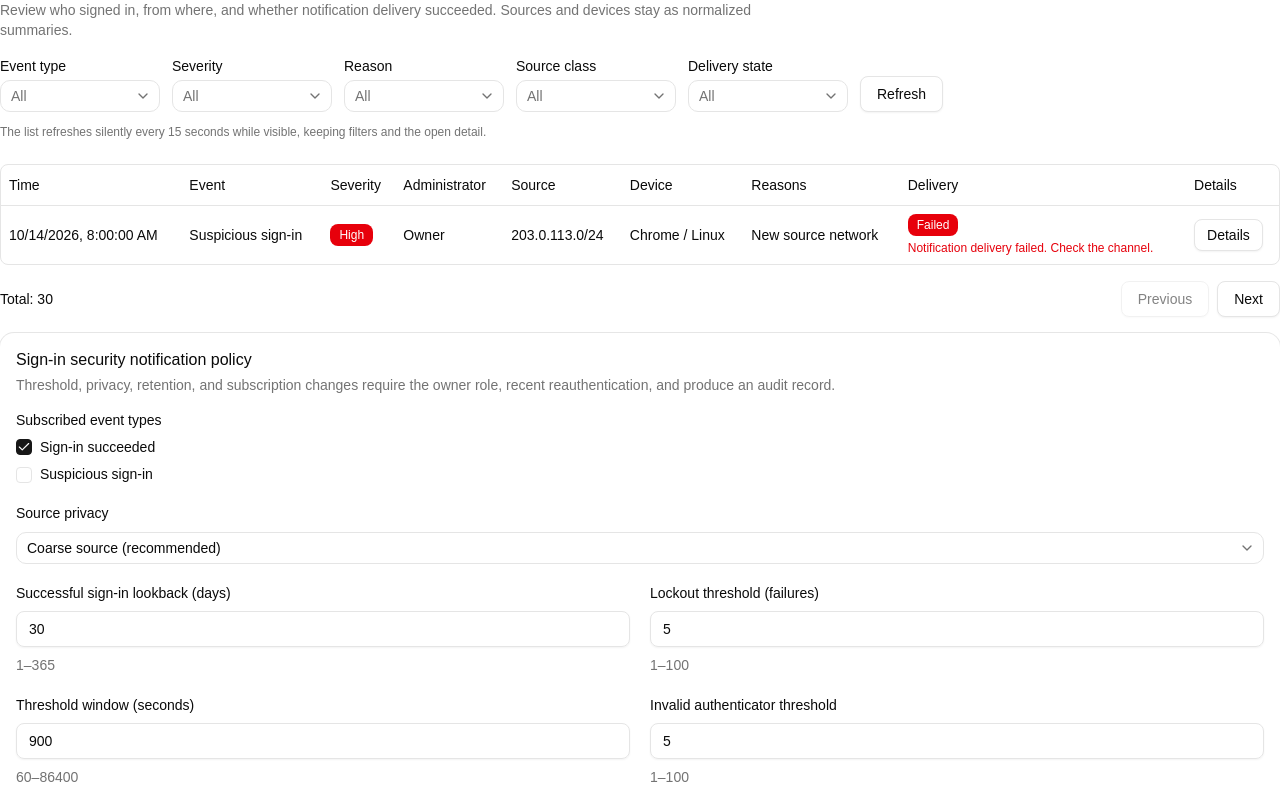
Test: sign-in security events console › keeps the protected source address out of the detail while privacy stays coarse
The width and height of the screenshot is (1280, 800).
Step 1. Click the button with aria-label "Details: Suspicious sign-in" → (1228, 234), box [1194,218,1263,250]
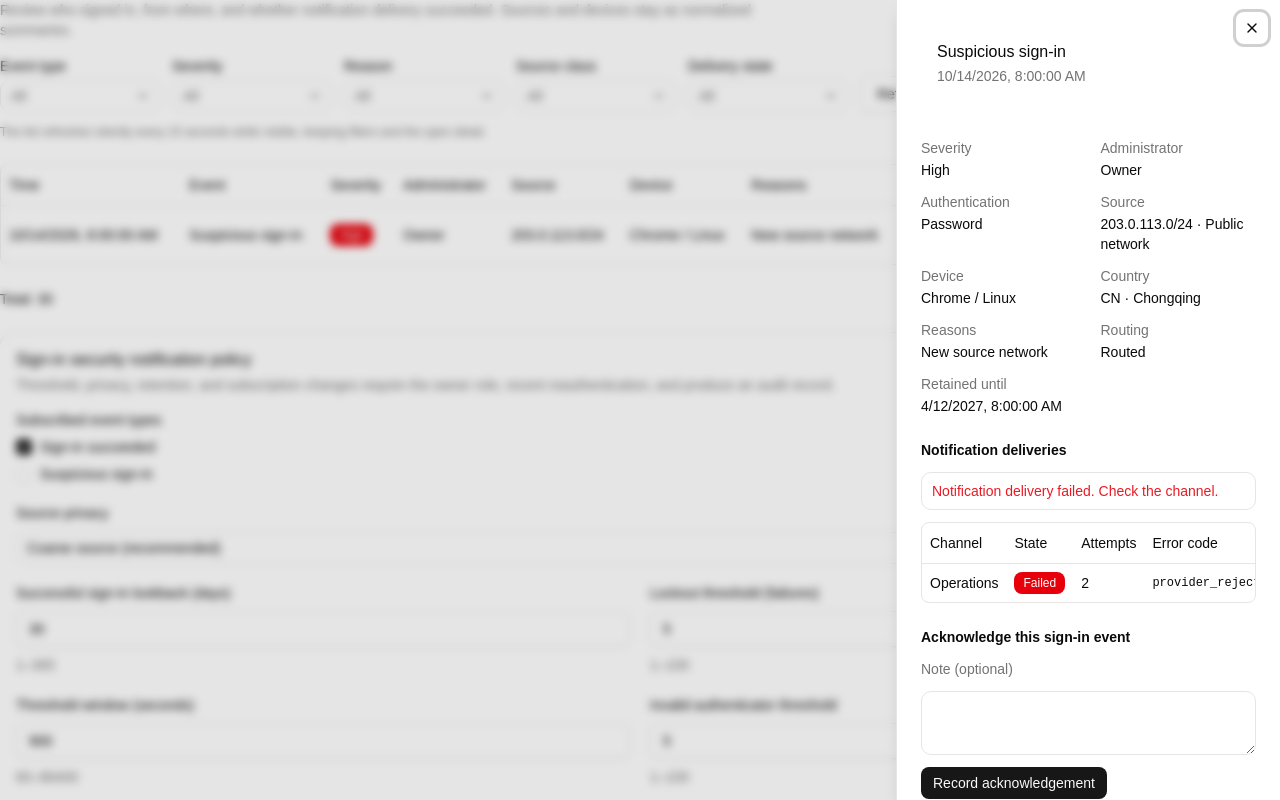
Result: the text "Operations" is shown at [922,563,1006,602]
